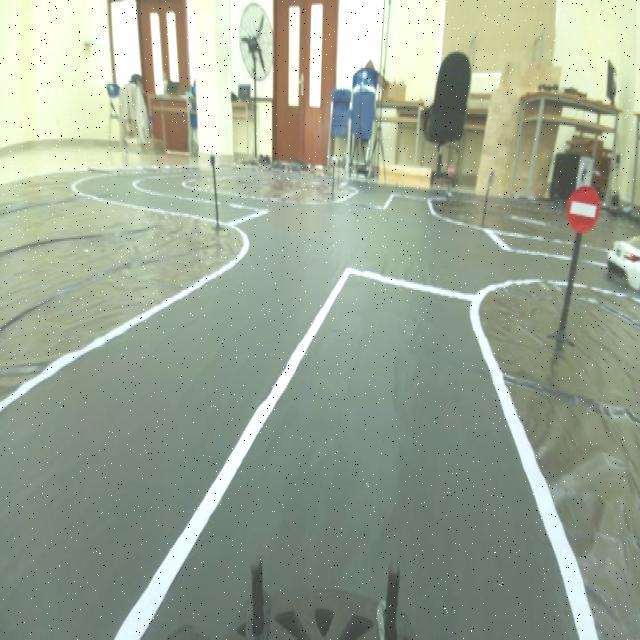no_entry: (565, 174, 608, 239)
